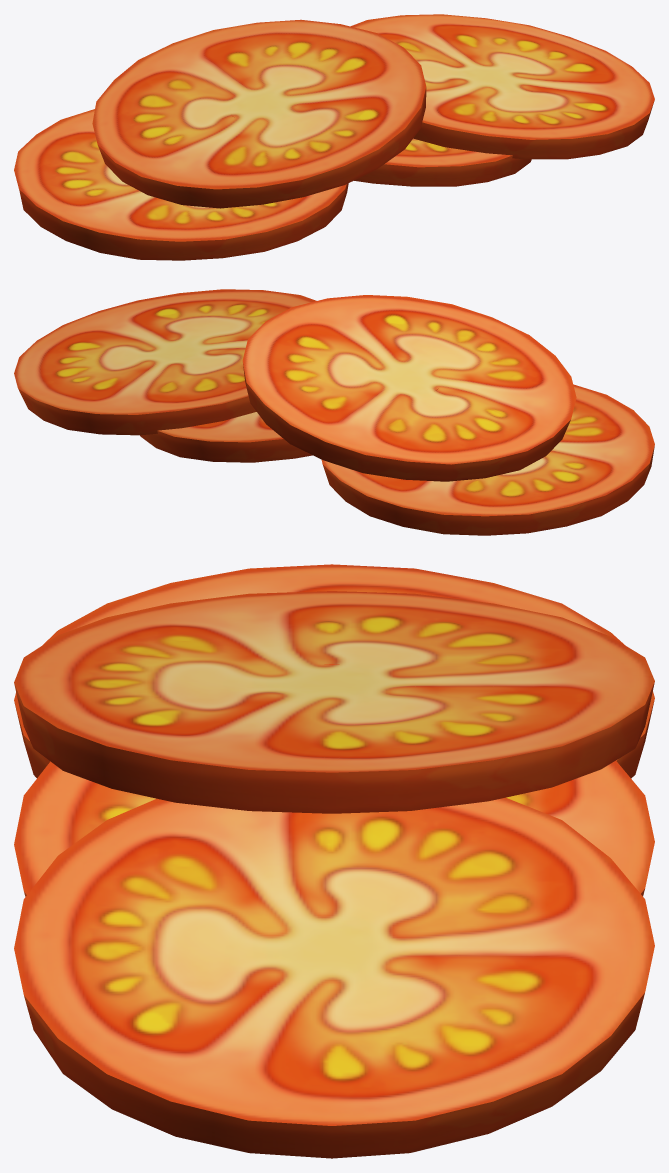
The model's file is Tomato_dilimler.fbx.
3 renders of one model, top to bottom at view 1: azimuth 30°, elevation 25°; view 2: azimuth 150°, elevation 25°; view 3: azimuth 270°, elevation 25°, orthographic. The views are drawn at different scales.
Visible parts, largest first — view 1: Tomato_dilim; view 2: Tomato_dilim; view 3: Tomato_dilim.
Boxes of the visible parts, box(x1,y1,x2,y2) form: Tomato_dilim: box(14, 14, 654, 260); Tomato_dilim: box(14, 289, 654, 535); Tomato_dilim: box(14, 564, 654, 1158).
Bounding box in the file's own units: 35.84 × 5.51 × 17.62.
